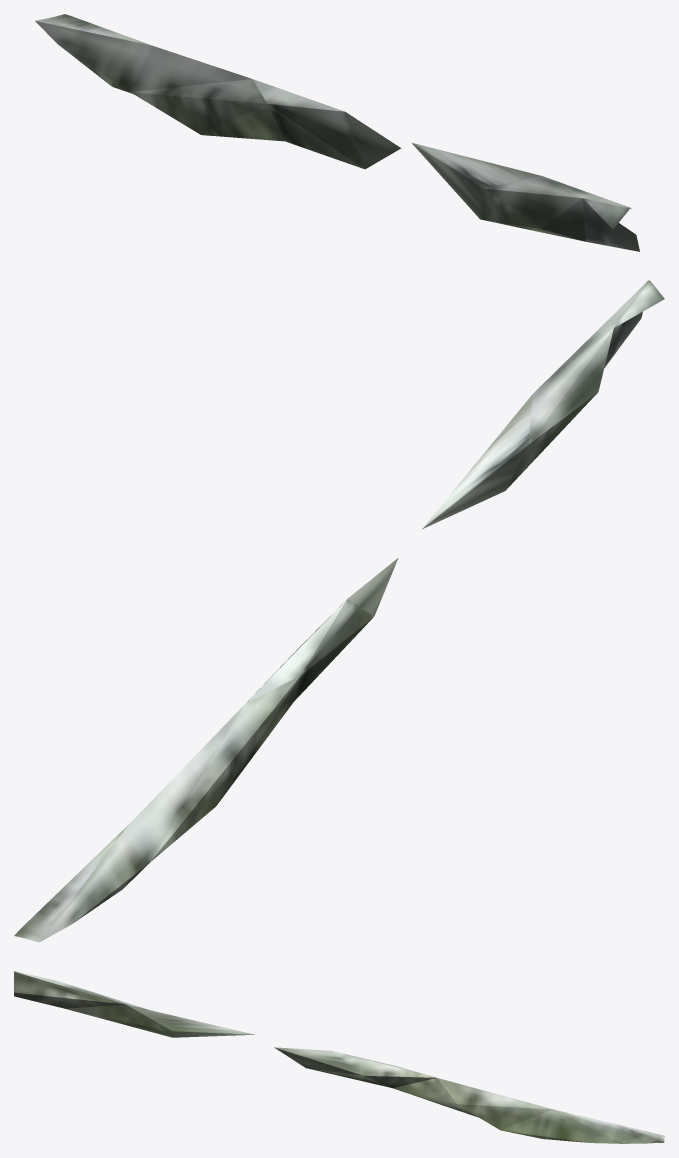
3 views of the same model, one above another, from view 1: azimuth 30°, elevation 25°; view 2: azimuth 150°, elevation 25°; view 3: azimuth 270°, elevation 25° (orthographic). The views are drawn at different scales.
Size of the model in its own units: 0.268 by 0.7291 by 2.85.
1 material, 1 textured.
